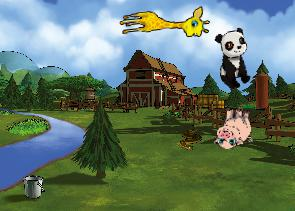giraffe: (118, 5, 210, 45)
panda: (213, 27, 254, 91)
pig: (213, 105, 254, 150)
